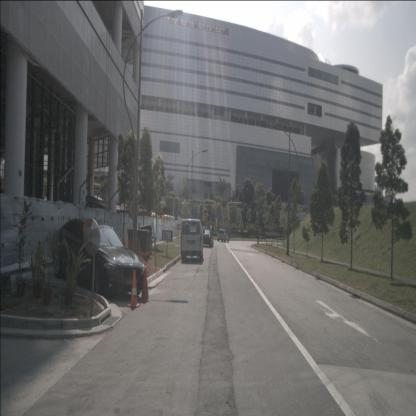cone: (127, 269, 141, 308), (140, 267, 150, 302)
